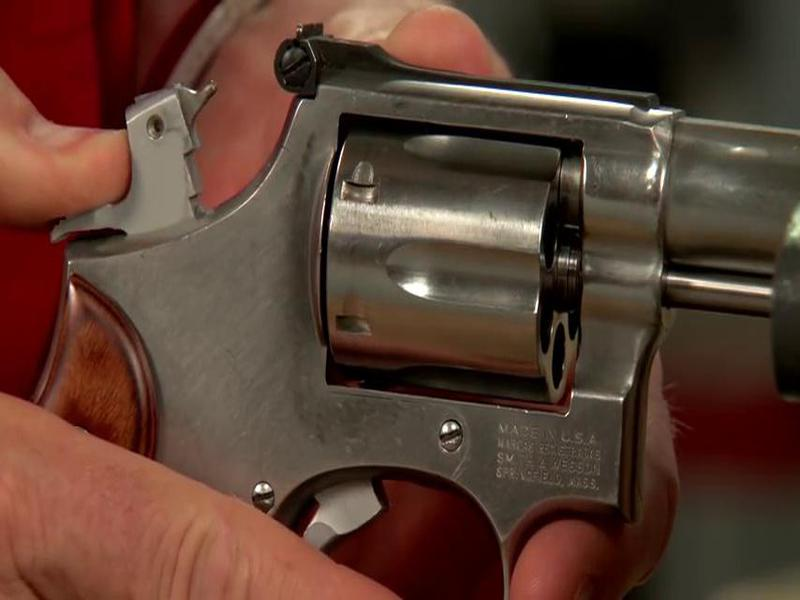Revolver: (30, 23, 800, 566)
